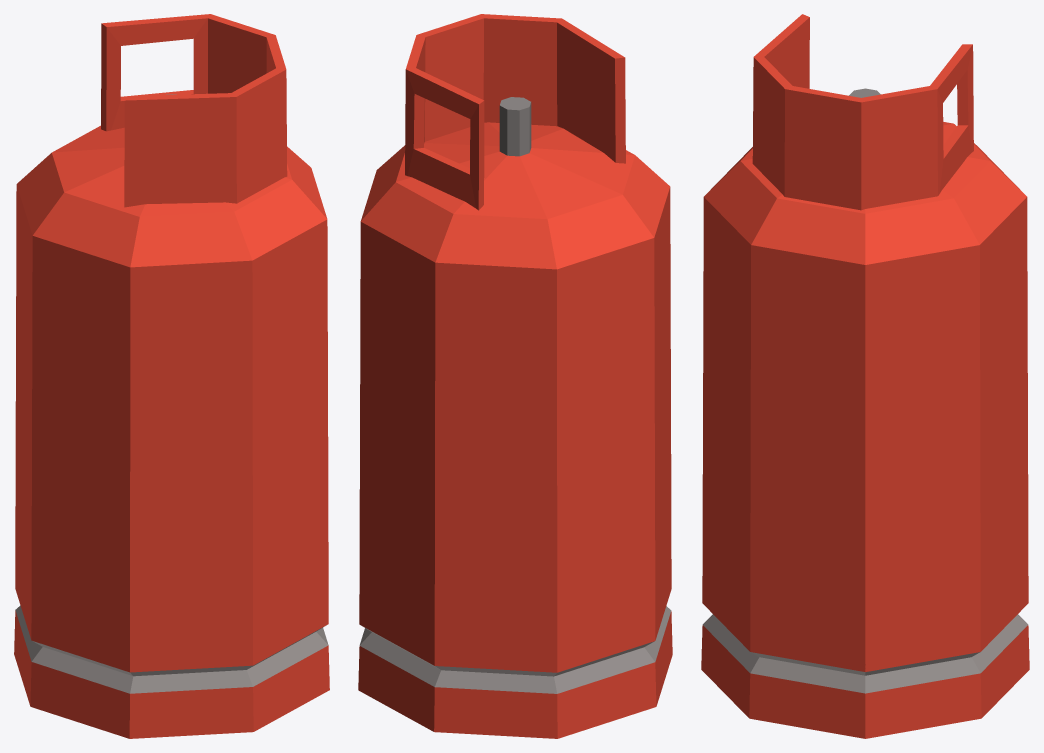
The model's file is SM_Gasbag_01.fbx.
3 renders of one model, left to right at view 1: azimuth 30°, elevation 25°; view 2: azimuth 150°, elevation 25°; view 3: azimuth 270°, elevation 25°, orthographic.
Parts seen in each view (by area): view 1: SM_Gasbag_01; view 2: SM_Gasbag_01; view 3: SM_Gasbag_01.
Part boxes in pixels (bbox=[...]): SM_Gasbag_01: bbox=[14, 14, 329, 738]; SM_Gasbag_01: bbox=[358, 14, 672, 738]; SM_Gasbag_01: bbox=[701, 14, 1029, 738].
Bounding box in the file's own units: 29.46 × 61.04 × 29.46.
